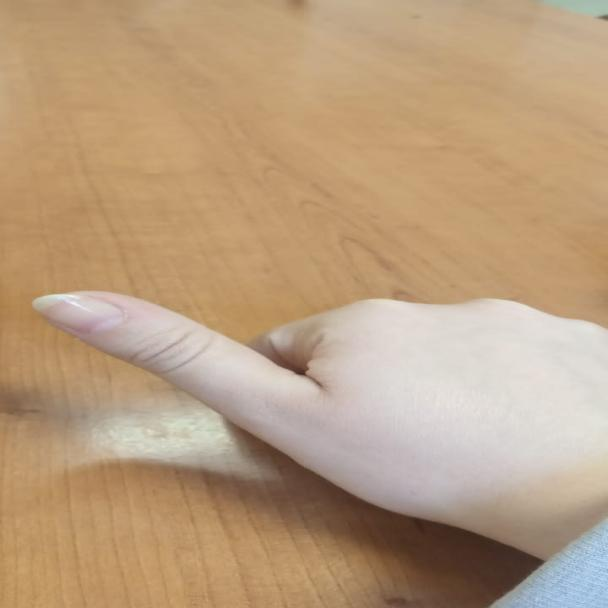five: (23, 278, 600, 504)
